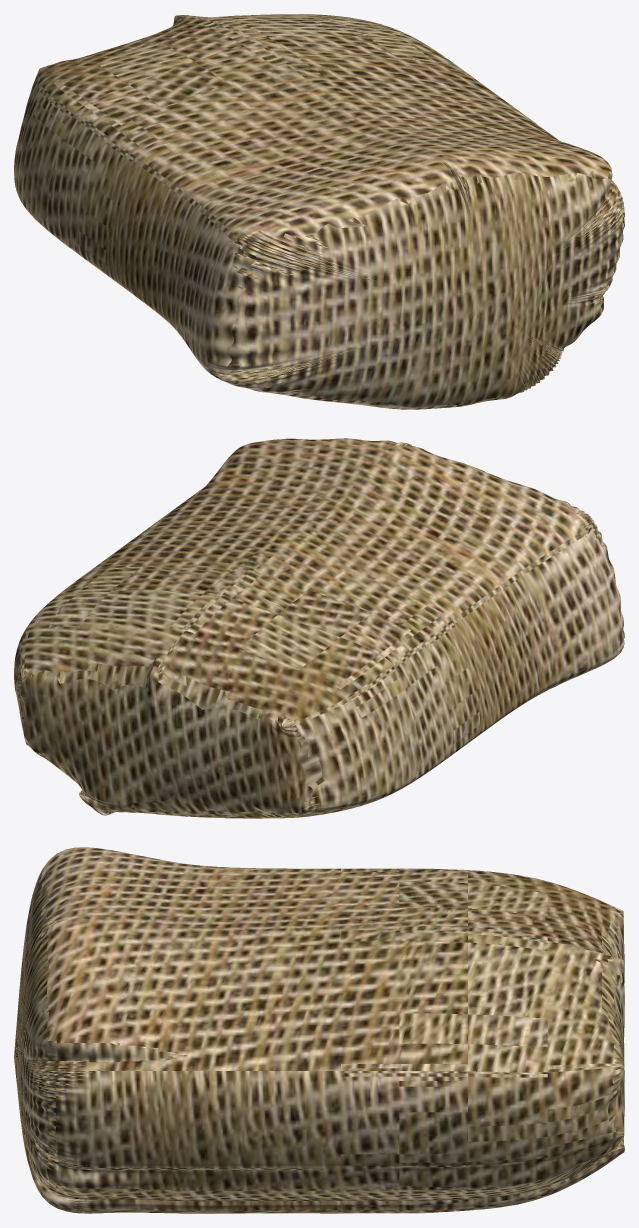
Rendered from sac.fbx.
The picture shows the model from 3 angles, top to bottom: view 1: azimuth 30°, elevation 25°; view 2: azimuth 150°, elevation 25°; view 3: azimuth 270°, elevation 25°; orthographic projection. The views are drawn at different scales.
Parts seen in each view (by area): view 1: TooBig0; view 2: TooBig0; view 3: TooBig0.
Part boxes in pixels (x1,y1,x2,y2): TooBig0: [14, 14, 624, 409]; TooBig0: [14, 438, 624, 818]; TooBig0: [14, 847, 624, 1213].
Bounding box in the file's own units: 5847 × 3341 × 7135.
Materials: 1 (1 with a texture image).
